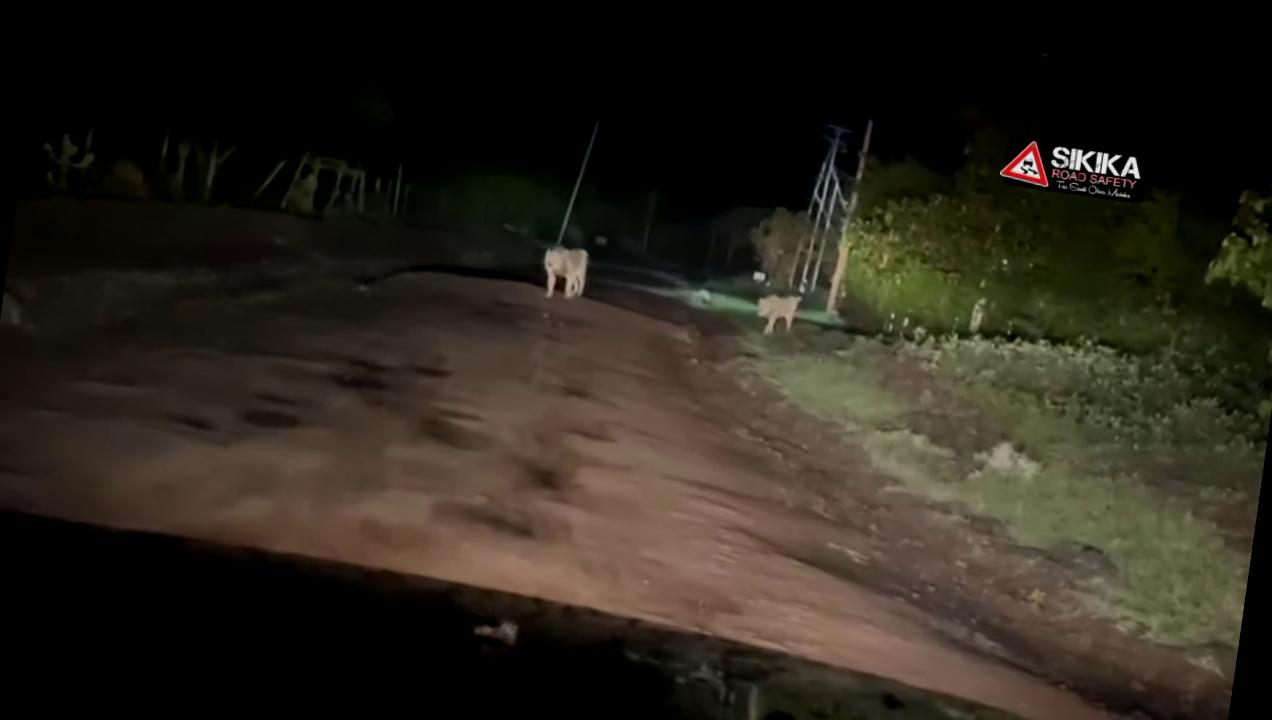lions: (502, 226, 616, 338)
